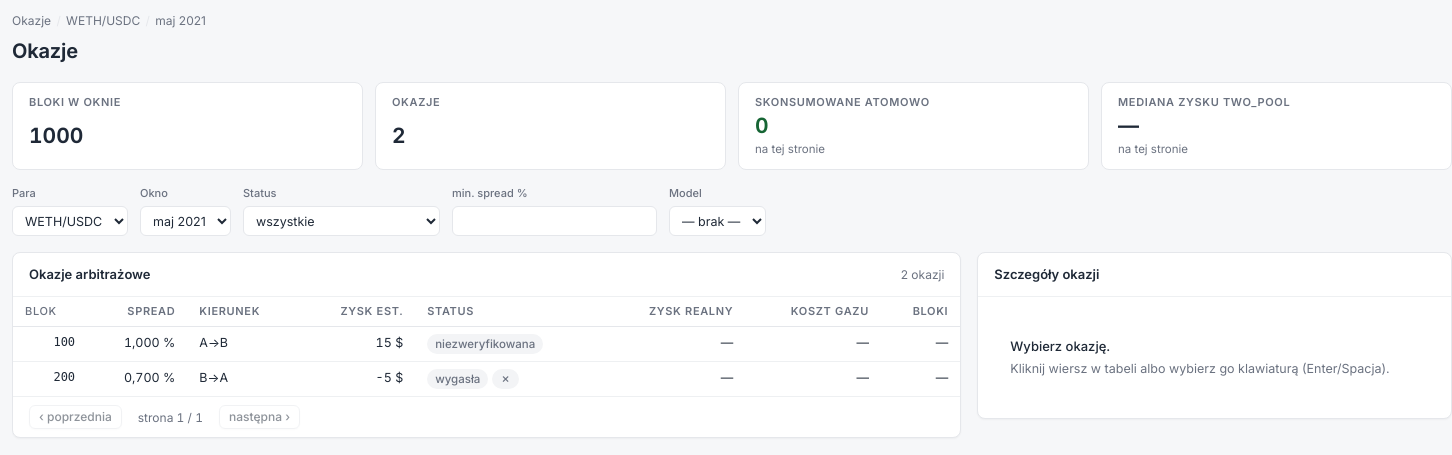
klik w wiersz wybiera okazję i pokazuje panel szczegółów
Check: the text "Wybierz okazję." is shown, box [1010,337,1110,356]
Click the text "100" at (50, 345), box [13,327,87,362]
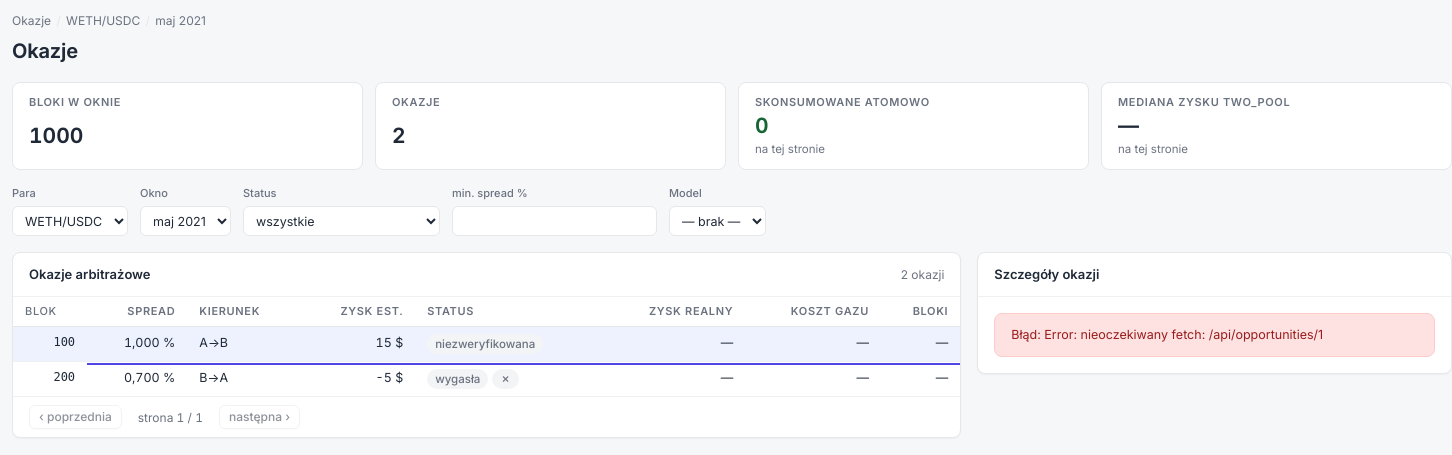
Check: the text "Wybierz okazję." is gone
